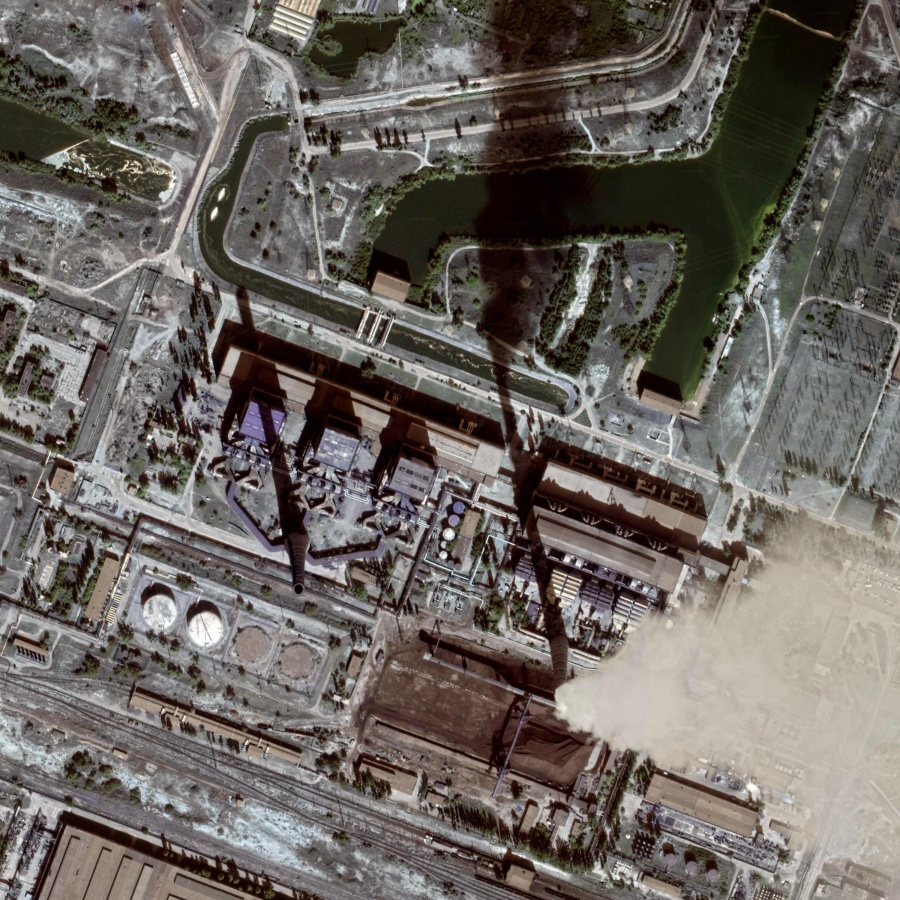PowerPlant: (134, 277, 761, 786)
